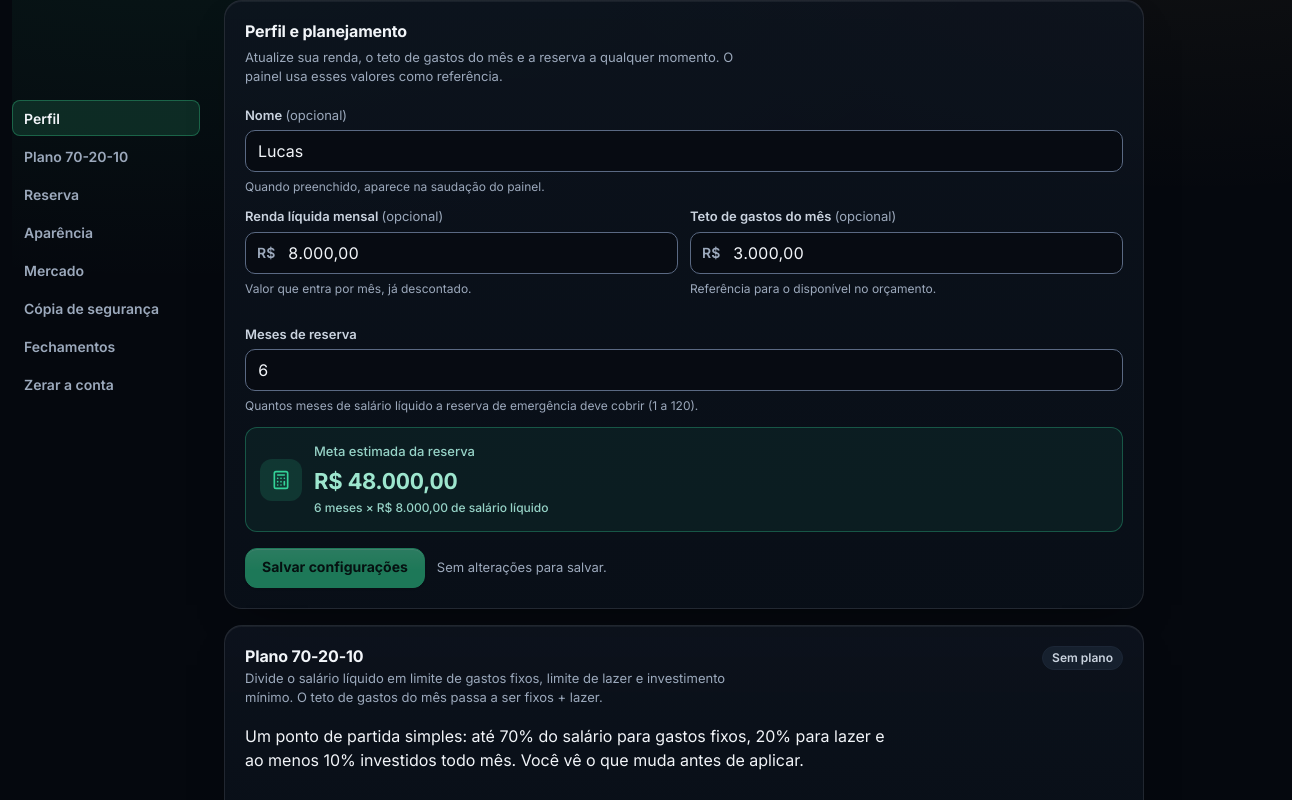
perfil e planejamento › não salva valores inválidos nem meses fora da faixa
Step 1. Replace the text in the field labelled "Teto de gastos do mês (opcional)" with "abc" → (906, 253), box [690,232,1123,274]
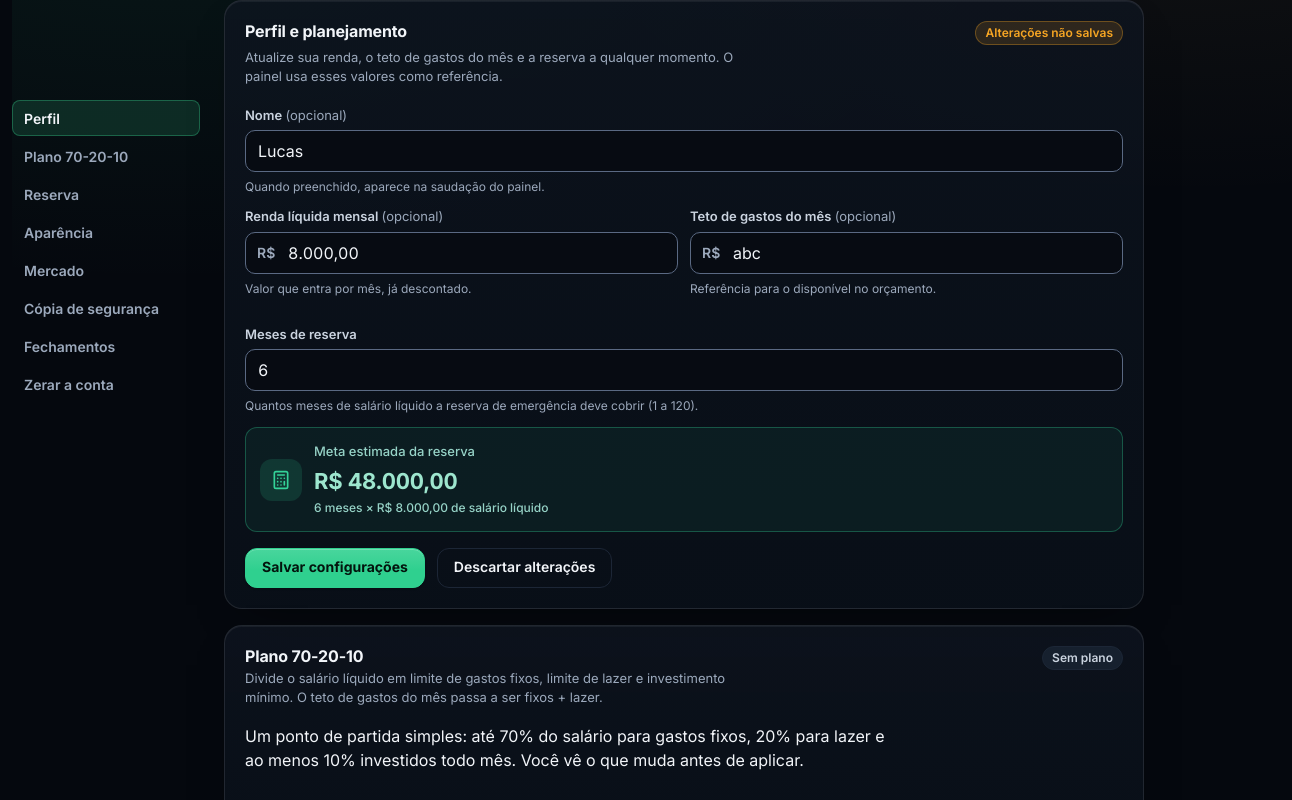
Step 2. Replace the text in the number field labelled "Meses de reserva" with "121" → (684, 370), box [245,349,1123,391]
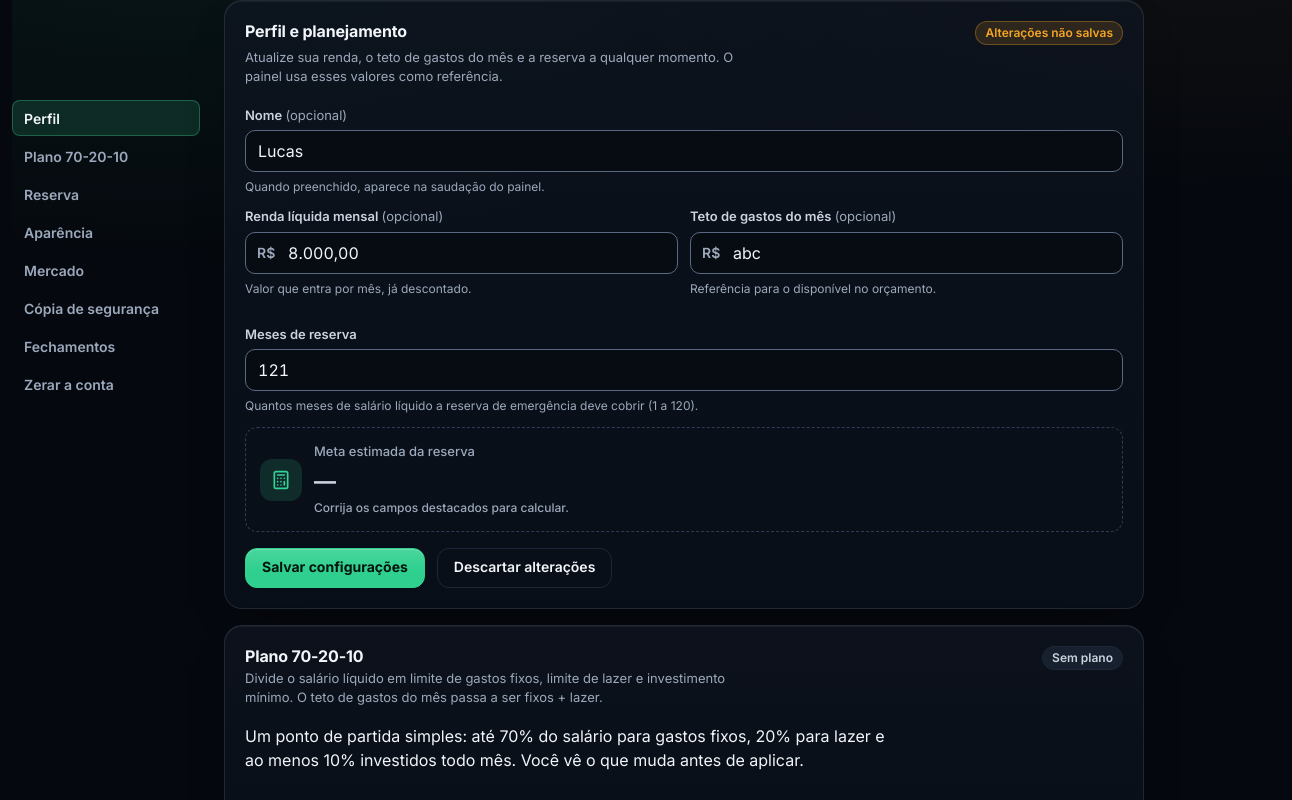
Step 3. Click the button "Salvar configurações" → (335, 568), box [245,548,425,588]
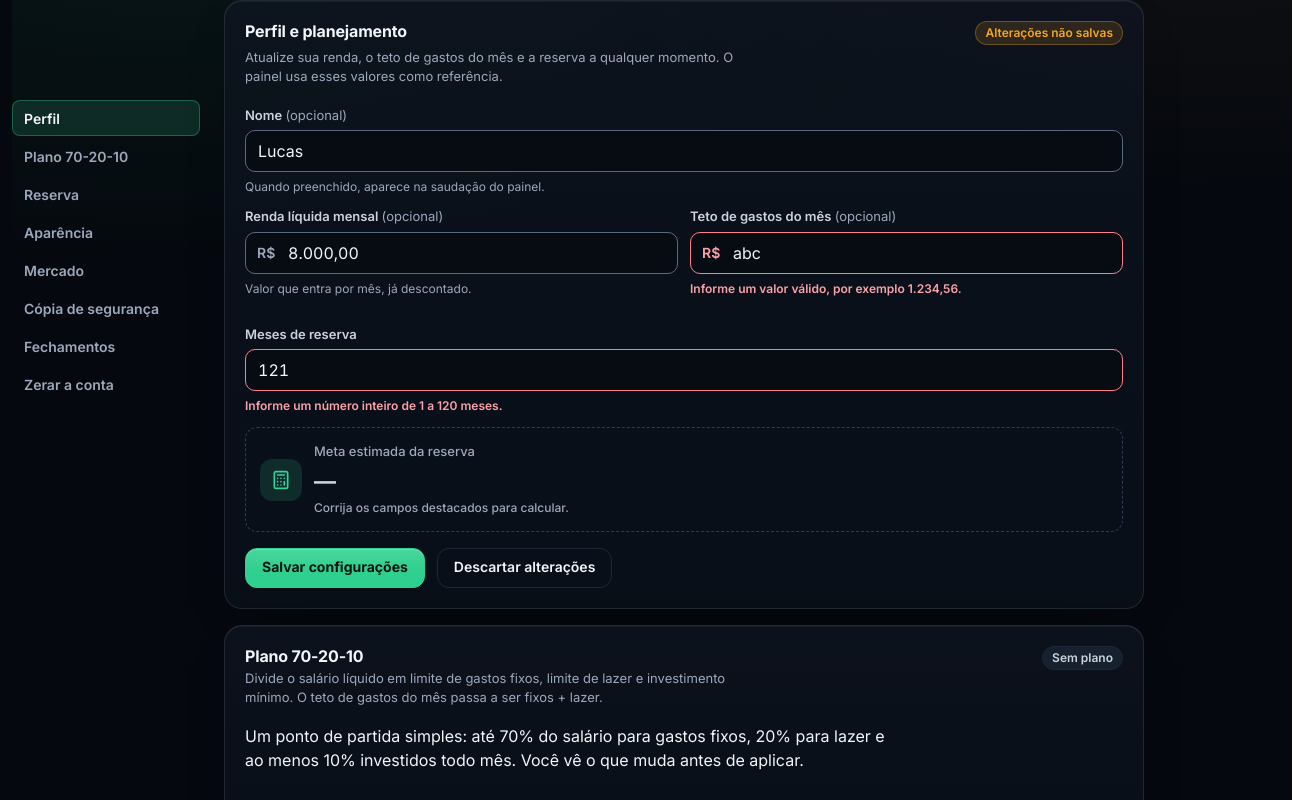
Now the text "Informe um valor válido, por exemplo 1.234,56." is shown, box [690,281,962,296]
Now the text "Informe um número inteiro de 1 a 120 meses." is shown, box [245,398,502,413]
